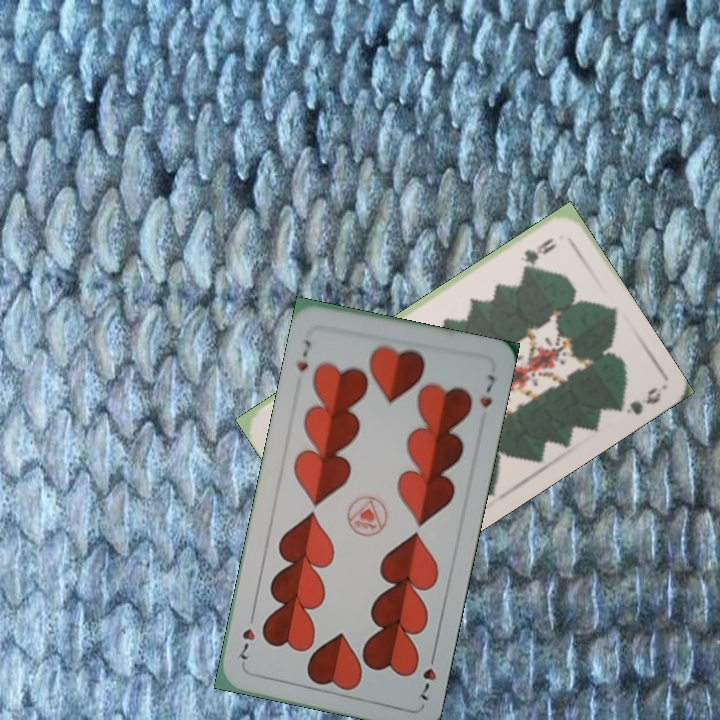G9: (518, 233, 560, 271)
H7: (415, 647, 439, 703), (291, 336, 314, 374)
